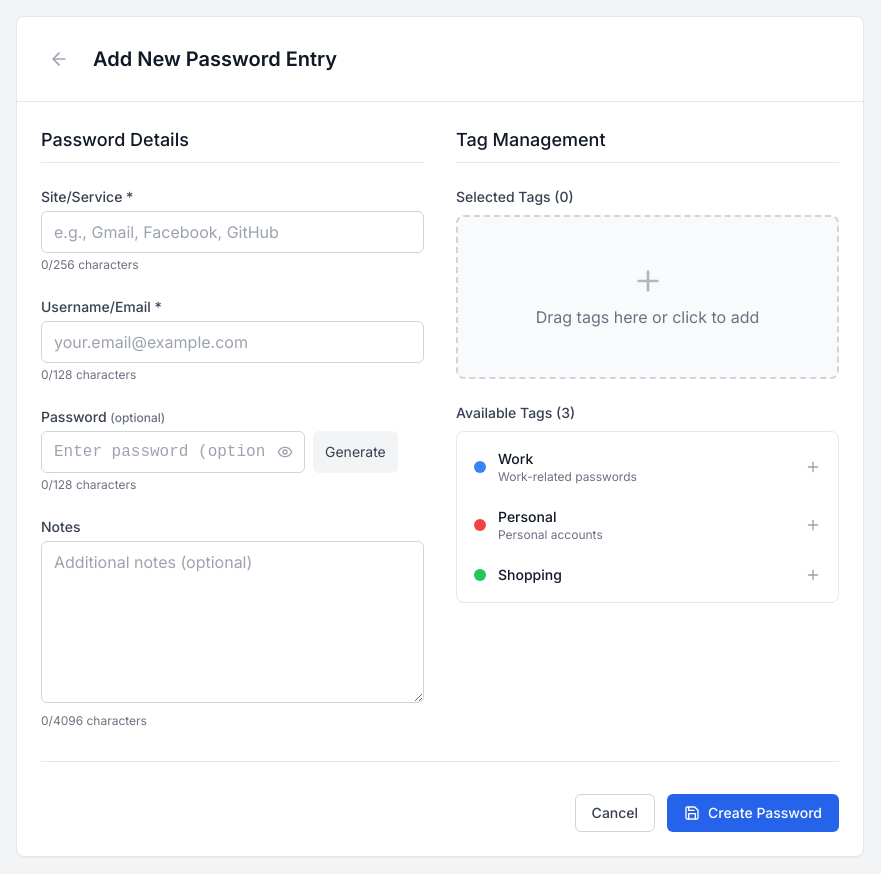
PasswordEdit Component › should allow clicking to add tags
The width and height of the screenshot is (881, 874).
Expected: the text "Available Tags (3)" is shown, [456, 404, 575, 421]
// Click on a tag to add it
Click the text "Work".
click(516, 458)  # box [498, 450, 533, 467]
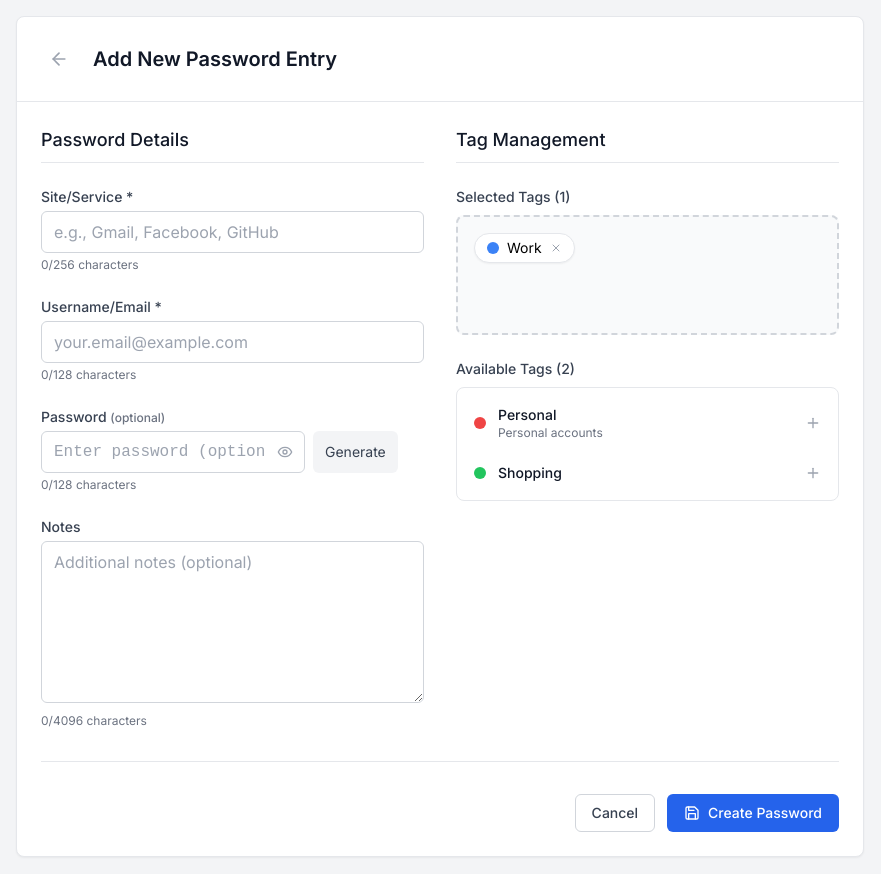
Now the text "Selected Tags (1)" is shown, box [456, 188, 570, 205]
Now the text "Available Tags (2)" is shown, box [456, 360, 575, 377]
